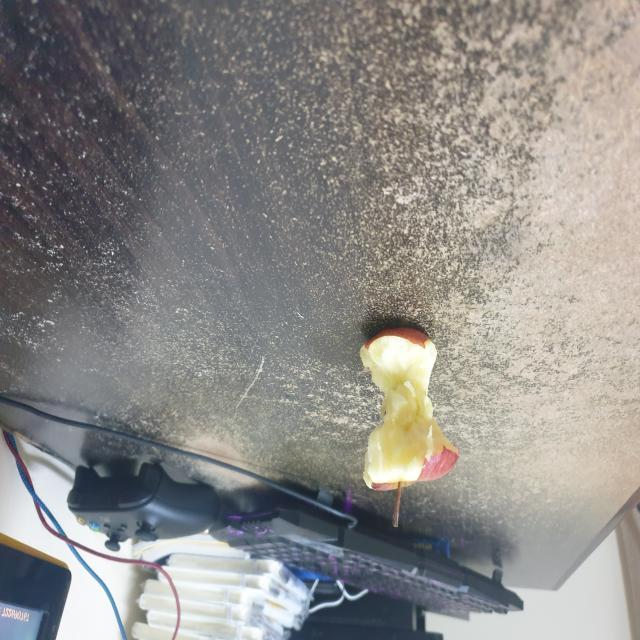apple: (352, 313, 462, 534)
